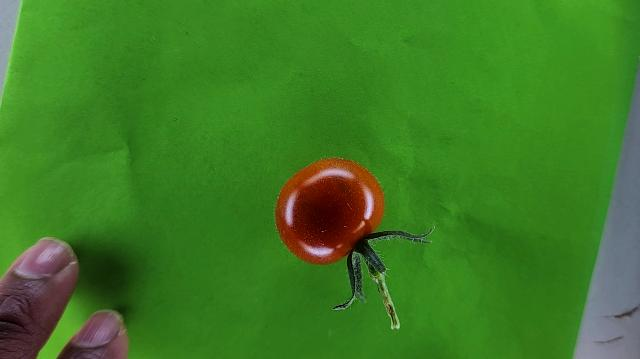Fully Grown: (273, 157, 390, 268), (274, 157, 386, 266)
